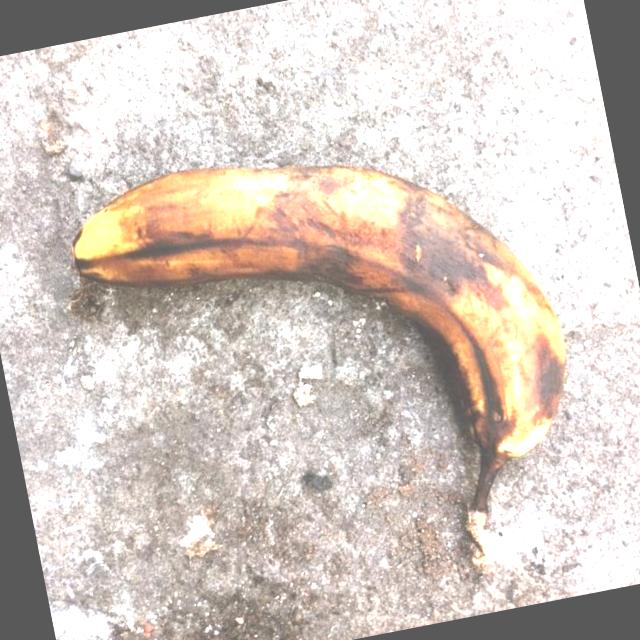Banana: (31, 110, 626, 606)
